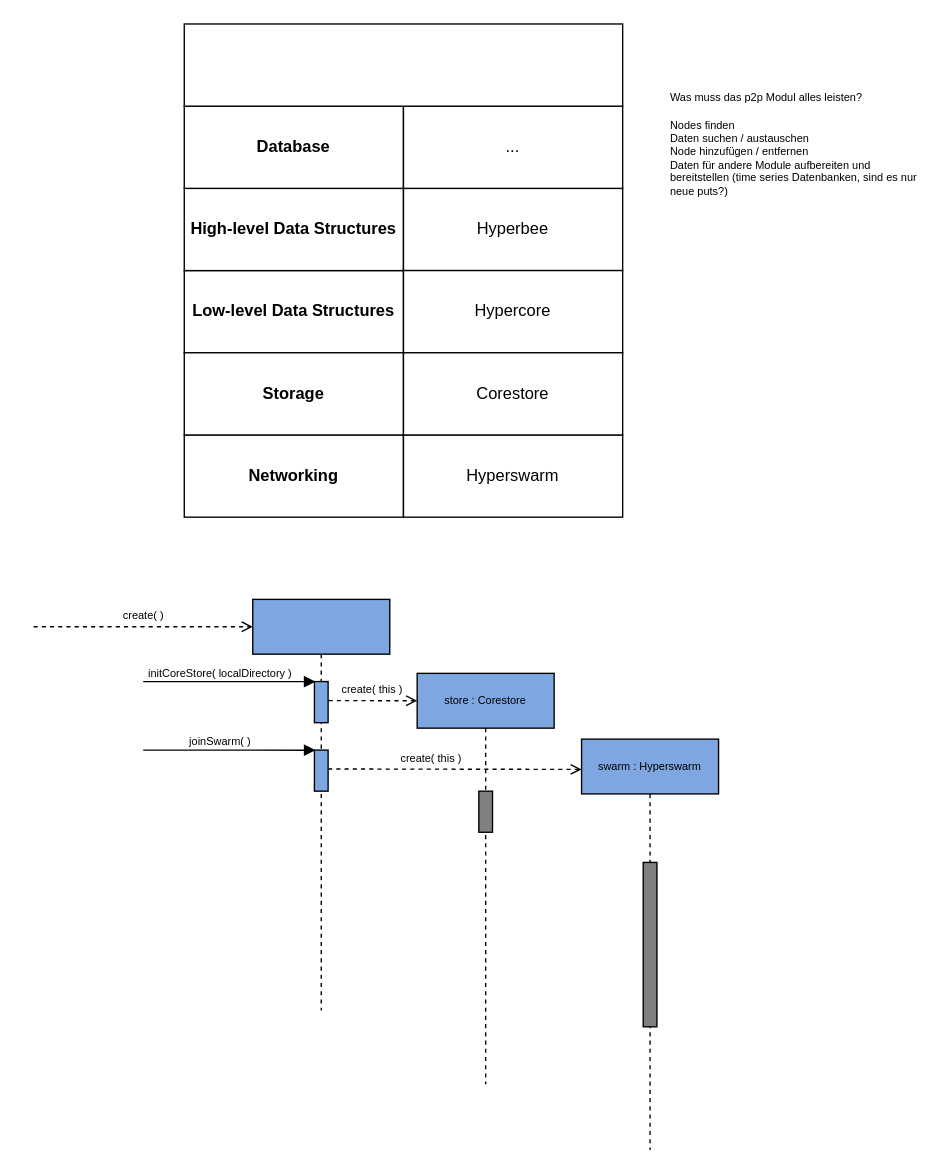
The diagram is 948 pixels wide and 1174 high, and some of its shapes have lost their labels. Each missing label, with the centre of its shape:
"API-Stack P2P-Modul" goes at [403,64].
"node N+1 : Node" goes at [320,804].
